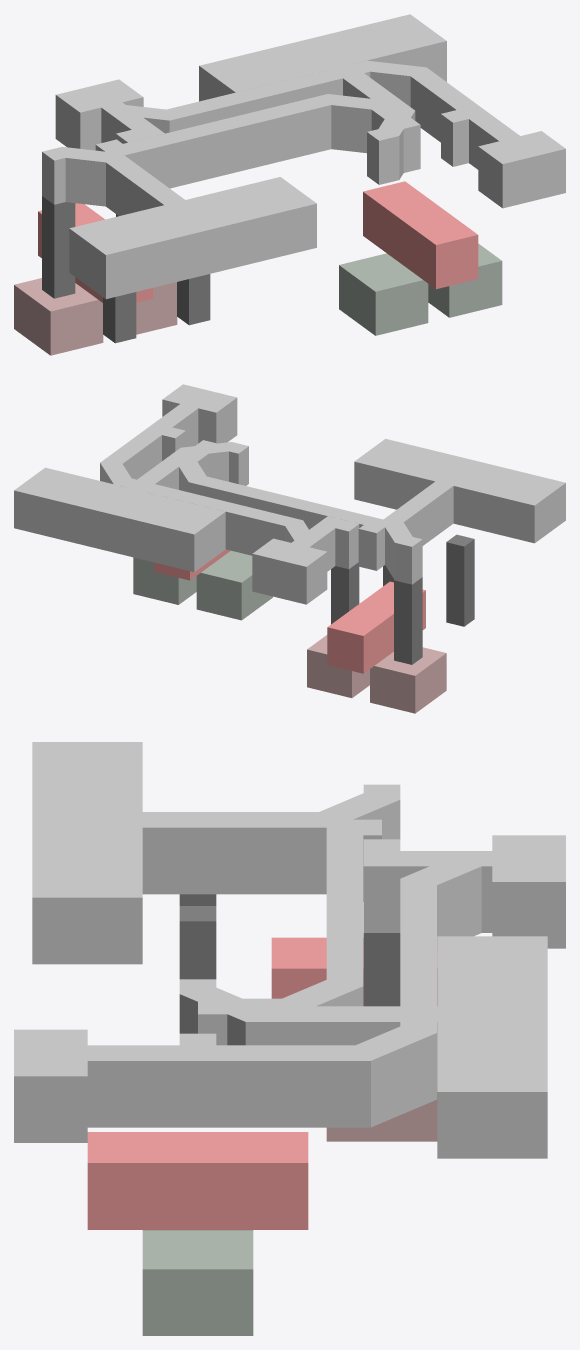
File: board.glb
The picture shows the model from 3 angles, top to bottom: view 1: azimuth 30°, elevation 25°; view 2: azimuth 150°, elevation 25°; view 3: azimuth 270°, elevation 25°; orthographic projection. The views are drawn at different scales.
Parts seen in each view (by area): view 1: Copper_Net3_Contour0 (×3), Copper_Net2_Contour0 (×4), Copper_Net1_Contour0 (×2), Copper_Net4_Contour0 (×3), Copper_Net1_Contour1; view 2: Copper_Net3_Contour0 (×3), Copper_Net4_Contour0 (×3), Copper_Net2_Contour0 (×3), Copper_Net1_Contour0 (×2), Copper_Net1_Contour1, Copper_Net2_Contour1; view 3: Copper_Net2_Contour0 (×4), Copper_Net3_Contour0, Copper_Net4_Contour0, Copper_Net1_Contour0 (×2), Copper_Net1_Contour1, Copper_Net2_Contour1.
Part boxes in pixels (box(x1,y1,x2,y2)): Copper_Net3_Contour0 (×3): box(14, 146, 316, 355); Copper_Net2_Contour0 (×4): box(55, 60, 565, 334); Copper_Net1_Contour0 (×2): box(95, 94, 478, 289); Copper_Net4_Contour0 (×3): box(103, 14, 446, 343); Copper_Net1_Contour1: box(38, 203, 153, 302); Copper_Net3_Contour0 (×3): box(354, 438, 565, 713); Copper_Net4_Contour0 (×3): box(14, 442, 474, 626); Copper_Net2_Contour0 (×3): box(100, 384, 369, 697); Copper_Net1_Contour0 (×2): box(154, 440, 391, 580); Copper_Net1_Contour1: box(327, 581, 425, 673); Copper_Net2_Contour1: box(331, 562, 359, 624); Copper_Net2_Contour0 (×4): box(14, 835, 565, 1335); Copper_Net3_Contour0: box(32, 742, 400, 964); Copper_Net4_Contour0: box(179, 936, 547, 1158); Copper_Net1_Contour0 (×2): box(87, 819, 381, 1229); Copper_Net1_Contour1: box(271, 937, 437, 1005); Copper_Net2_Contour1: box(363, 933, 400, 1006).
Size of the model in its own units: 4.5e-06 by 1.65e-06 by 3e-06.
